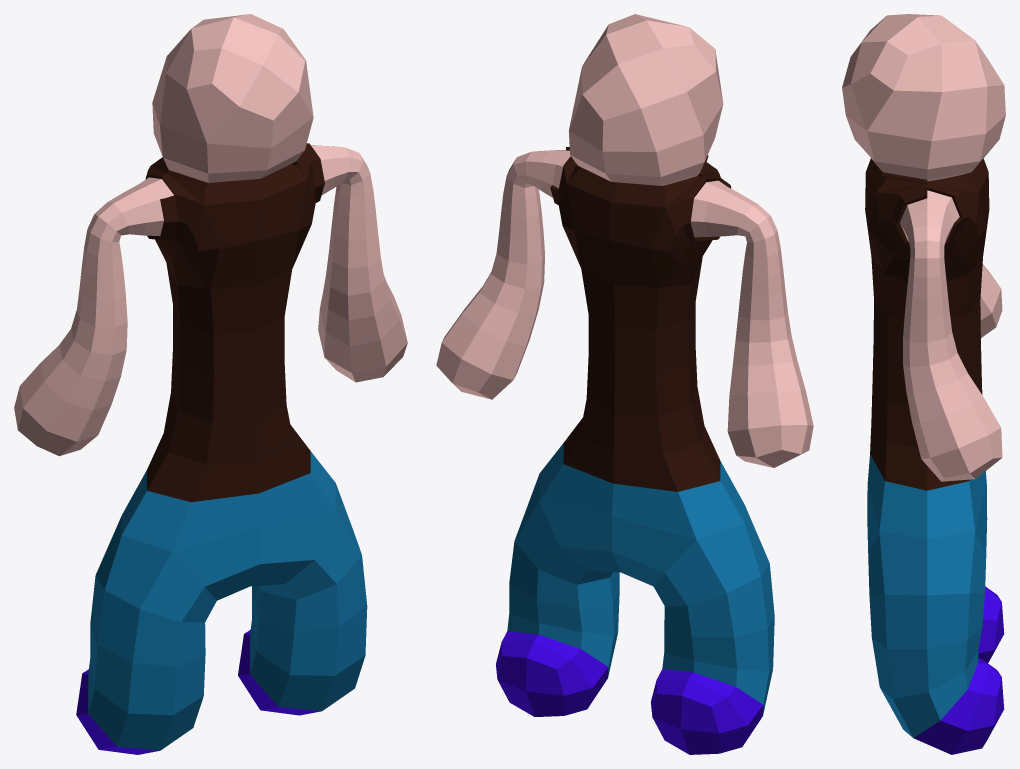
Rendered from perso.fbx.
The picture shows the model from 3 angles, left to right: view 1: azimuth 30°, elevation 25°; view 2: azimuth 150°, elevation 25°; view 3: azimuth 270°, elevation 25°; orthographic projection. The views are drawn at different scales.
Parts seen in each view (by area): view 1: vetement, perso; view 2: vetement, perso; view 3: vetement, perso.
Boxes of the visible parts, box(x1,y1,x2,y2) form: vetement: box(76, 143, 367, 754); perso: box(14, 14, 407, 456); vetement: box(496, 147, 774, 754); perso: box(436, 14, 813, 467); vetement: box(865, 158, 1004, 754); perso: box(842, 14, 1005, 481).
Size of the model in its own units: 351 by 645 by 138.
